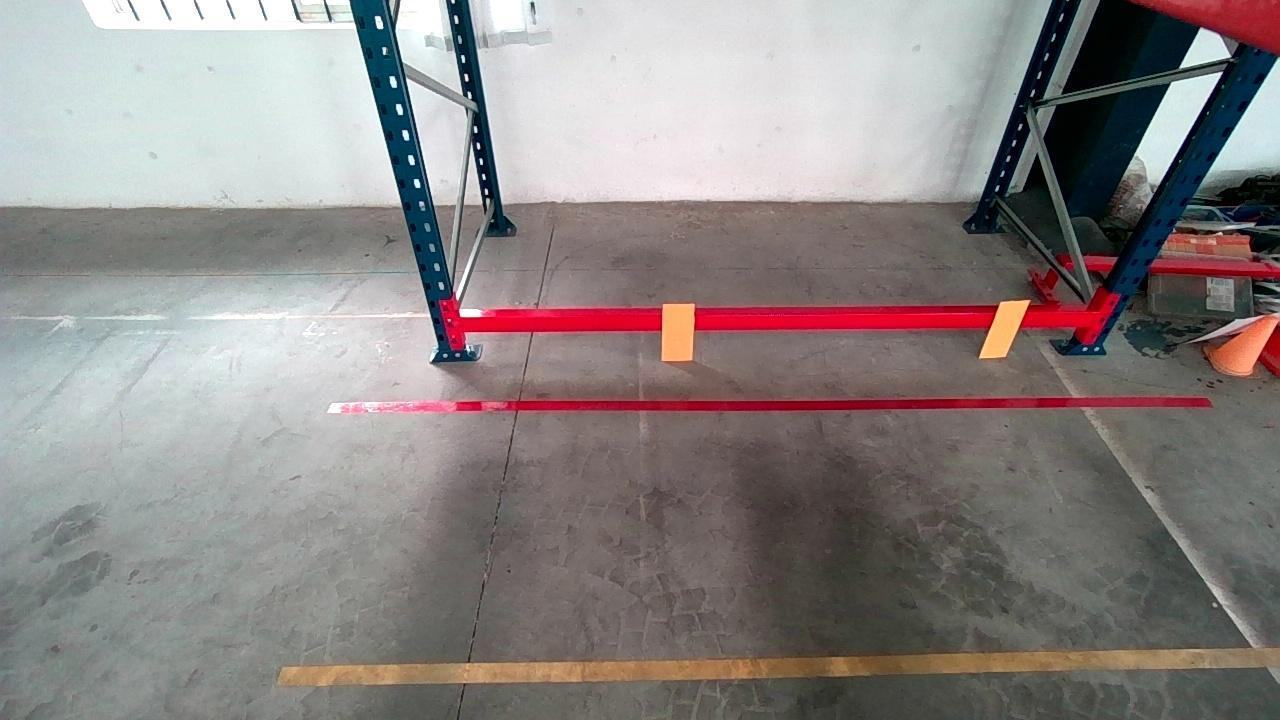h_rack: (463, 306, 1081, 340)
orange_strip: (978, 299, 1033, 357), (661, 302, 694, 360)
red_line: (338, 388, 1212, 423)
yellow_line: (288, 644, 1280, 692)
